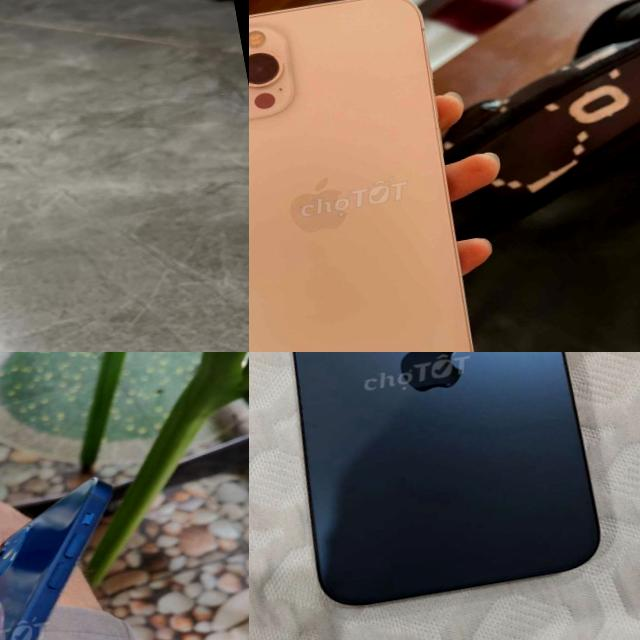gen_12_13: (249, 0, 497, 352), (0, 468, 170, 640), (0, 0, 61, 344)
gen_15: (249, 352, 611, 636)
